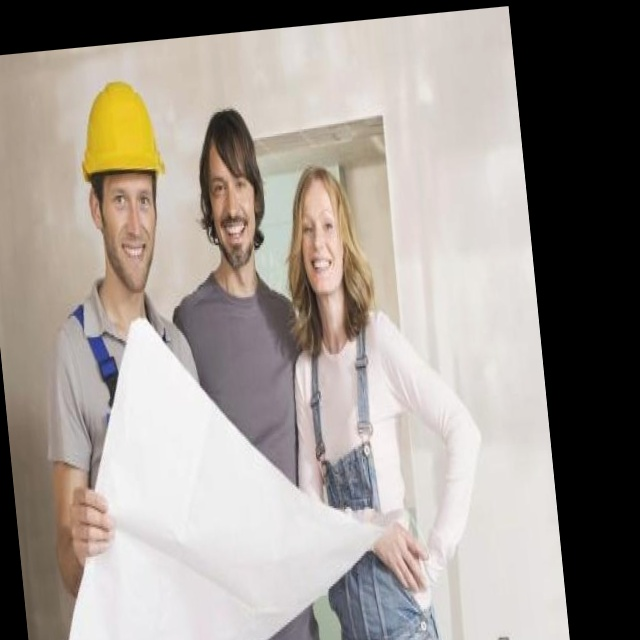Con_Casco: (76, 81, 168, 285)
Sin_Casco_Mascarrilla: (284, 165, 366, 328), (187, 105, 266, 266)
